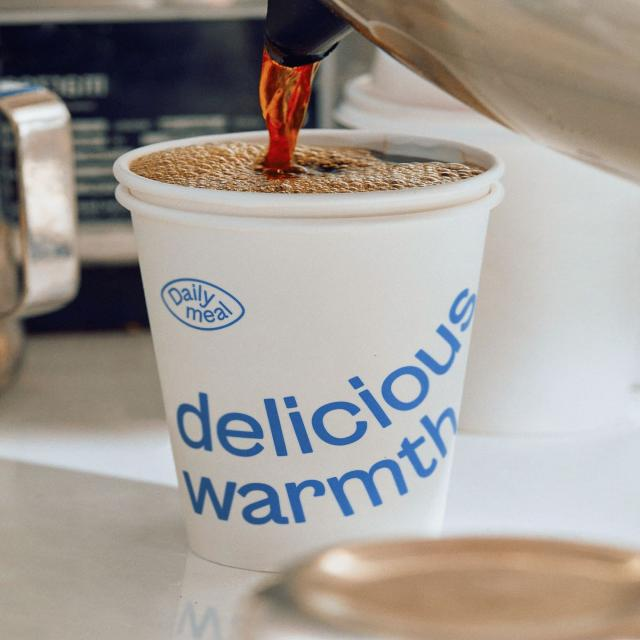paper cup: (113, 131, 506, 574)
